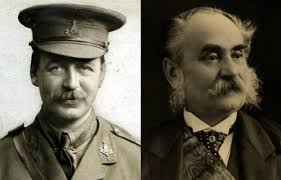middle_eastern_male: (31, 41, 114, 117)
